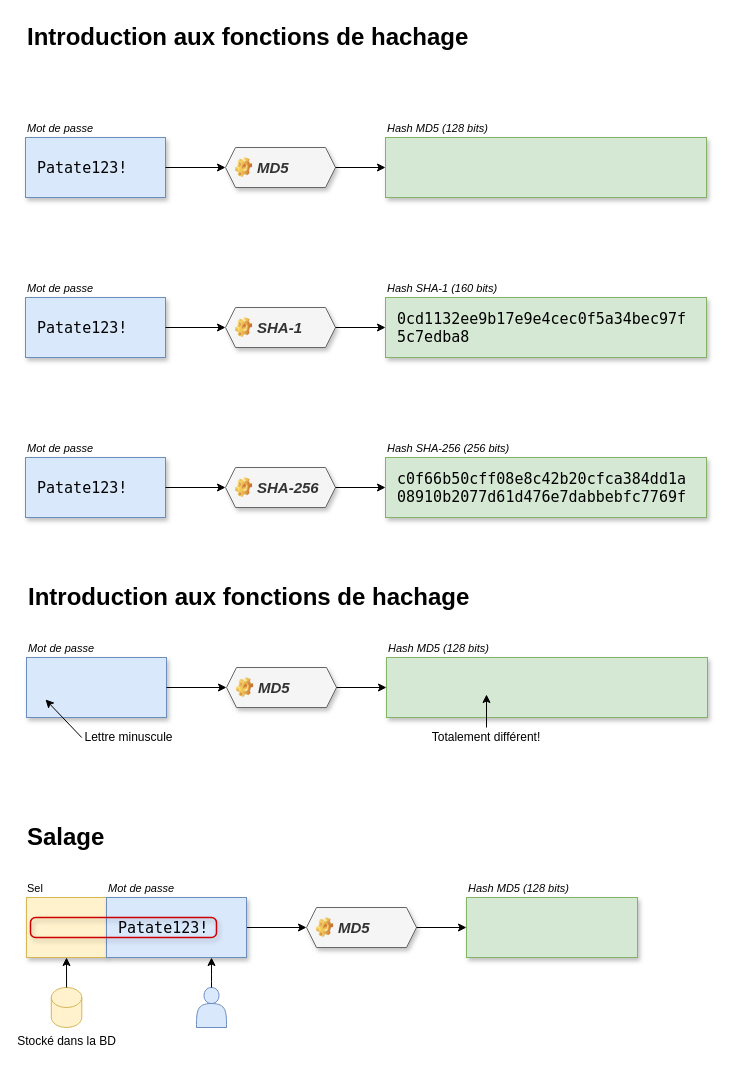
Image size: 731x1065. Some labels were removed from this diagram. The shapes that lost their labels are listed below. From the top down, each one's centre as x and y in pixels, then its label:
At point (546, 168): "e5b1add291212d7b0acf e 6 a 2c4a275d5".
At point (97, 688): "p atate123!".
At point (548, 688): "27cefdcf8d20e665366cc80f9d7806ff".
At point (67, 928): "Az*@£p3".
At point (553, 928): "cfc52024c8e15926 8 e178f24490f4dbd".
At point (211, 1007): "Fourni par l'utilisateur".
